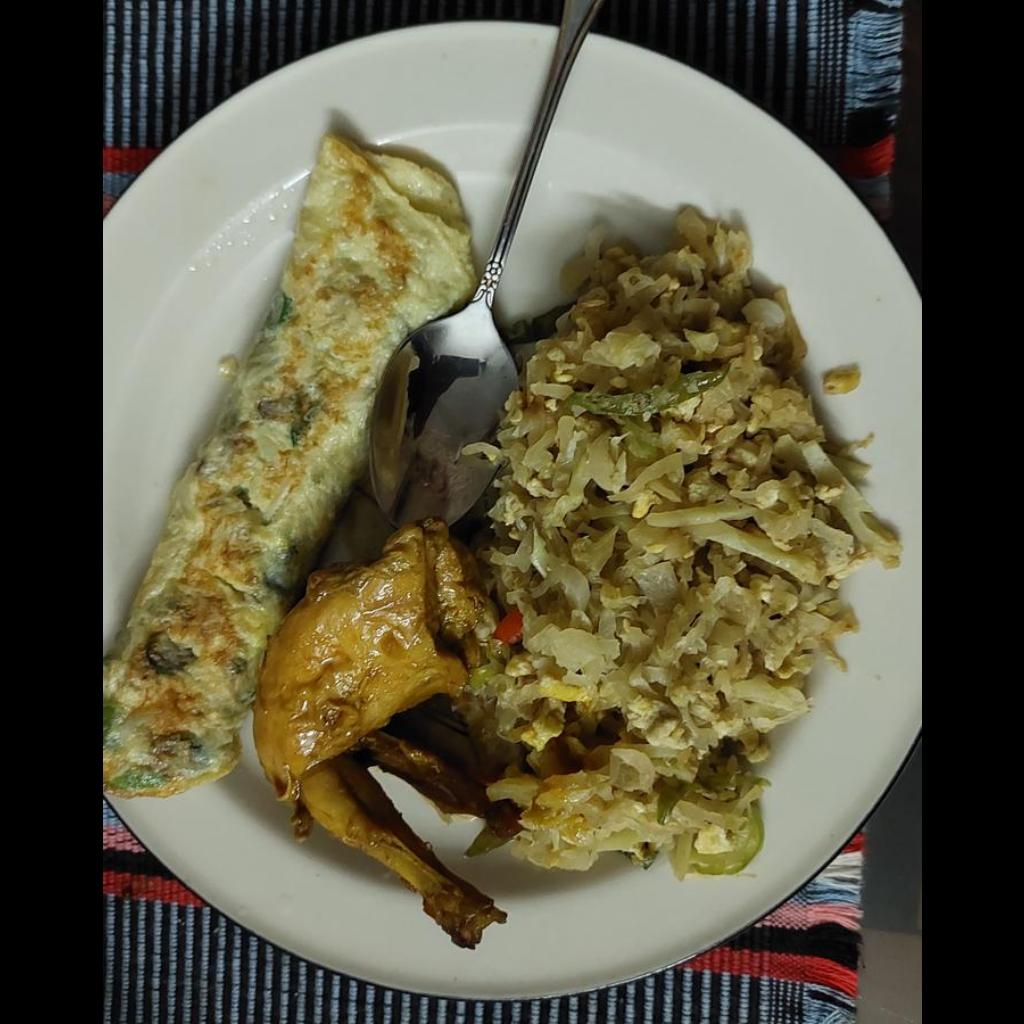chicken: (256, 525, 511, 949)
egg-poached: (102, 142, 477, 796)
vaji: (451, 200, 896, 878)
